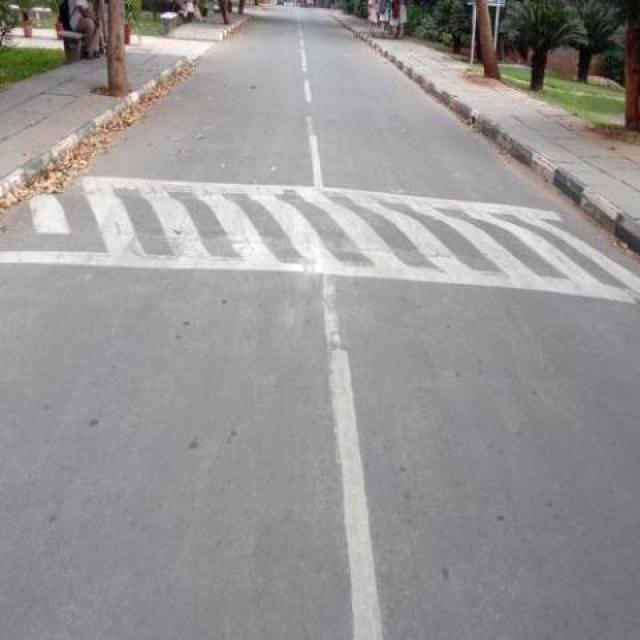Speed Bump: (26, 176, 638, 304)
